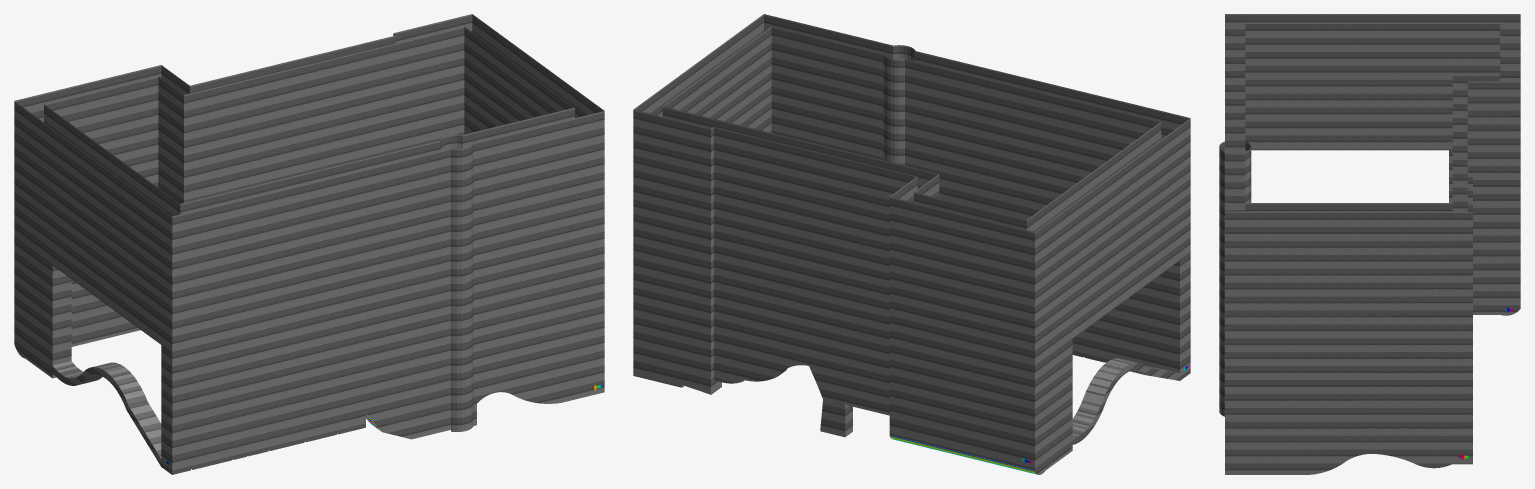
3 views of the same model, side by side, from view 1: azimuth 30°, elevation 25°; view 2: azimuth 150°, elevation 25°; view 3: azimuth 270°, elevation 25° (orthographic). The views are drawn at different scales.
Visible parts, largest first — view 1: Teknik-SKP--mat6; view 2: Teknik-SKP--mat6; view 3: Teknik-SKP--mat6.
Part boxes in pixels (box(x1,y1,x2,y2)): Teknik-SKP--mat6: box(14, 14, 604, 474); Teknik-SKP--mat6: box(633, 14, 1190, 474); Teknik-SKP--mat6: box(1219, 14, 1520, 474).
Bounding box in the file's own units: 109682 × 68607 × 70741.
8 materials, 8 textured.
